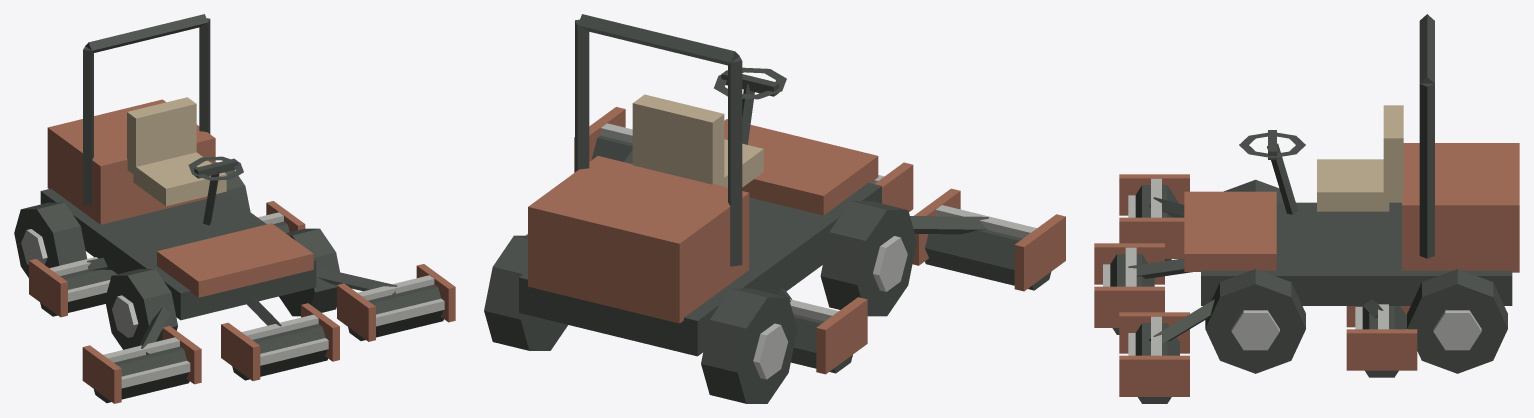
The model's file is fairway_mower_01.glb.
3 renders of one model, left to right at view 1: azimuth 30°, elevation 25°; view 2: azimuth 150°, elevation 25°; view 3: azimuth 270°, elevation 25°, orthographic. The views are drawn at different scales.
Parts seen in each view (by area): view 1: Fairway_mower_01; view 2: Fairway_mower_01; view 3: Fairway_mower_01.
Part boxes in pixels (x1,y1,x2,y2): Fairway_mower_01: [14, 14, 455, 403]; Fairway_mower_01: [484, 14, 1065, 403]; Fairway_mower_01: [1094, 14, 1519, 403].
Bounding box in the file's own units: 2.7 × 1.87 × 2.62.
